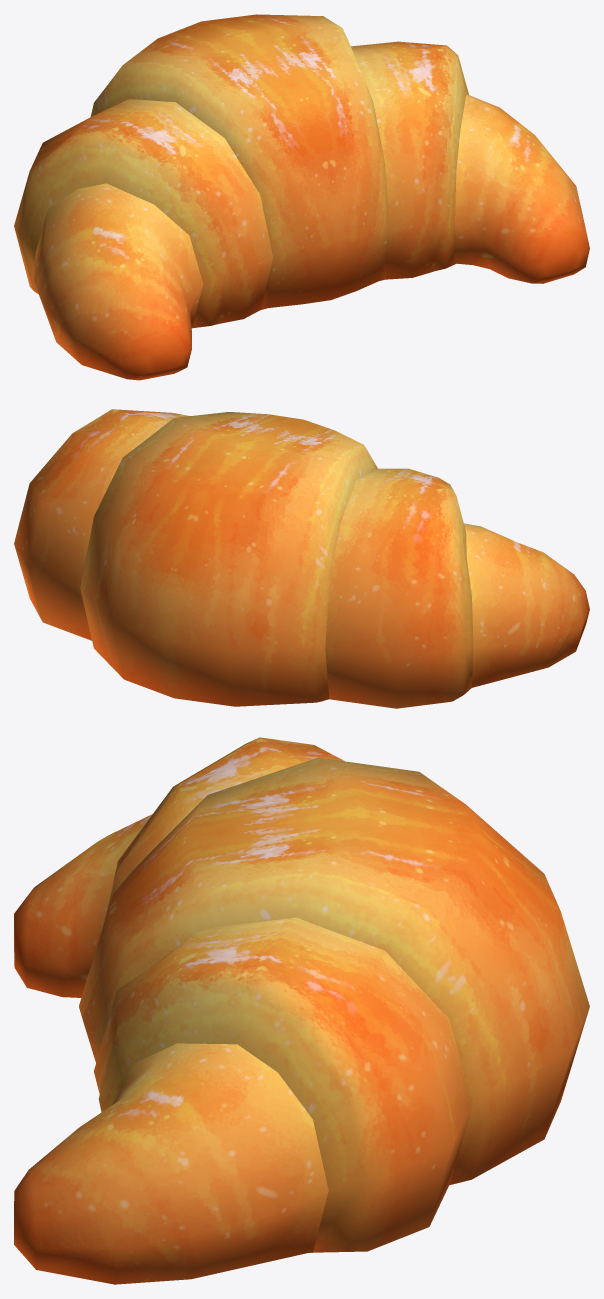
Rendered from 6_2_croissant.fbx.
The picture shows the model from 3 angles, top to bottom: view 1: azimuth 30°, elevation 25°; view 2: azimuth 150°, elevation 25°; view 3: azimuth 270°, elevation 25°; orthographic projection. The views are drawn at different scales.
Parts seen in each view (by area): view 1: Circle.052; view 2: Circle.052; view 3: Circle.052.
Part boxes in pixels (bbox=[...]): Circle.052: bbox=[14, 14, 589, 380]; Circle.052: bbox=[14, 409, 589, 708]; Circle.052: bbox=[14, 737, 589, 1284].
Bounding box in the file's own units: 5.98 × 2.42 × 4.07.
Materials: 1 (1 with a texture image).
